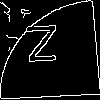Z: (24, 25, 60, 72)
